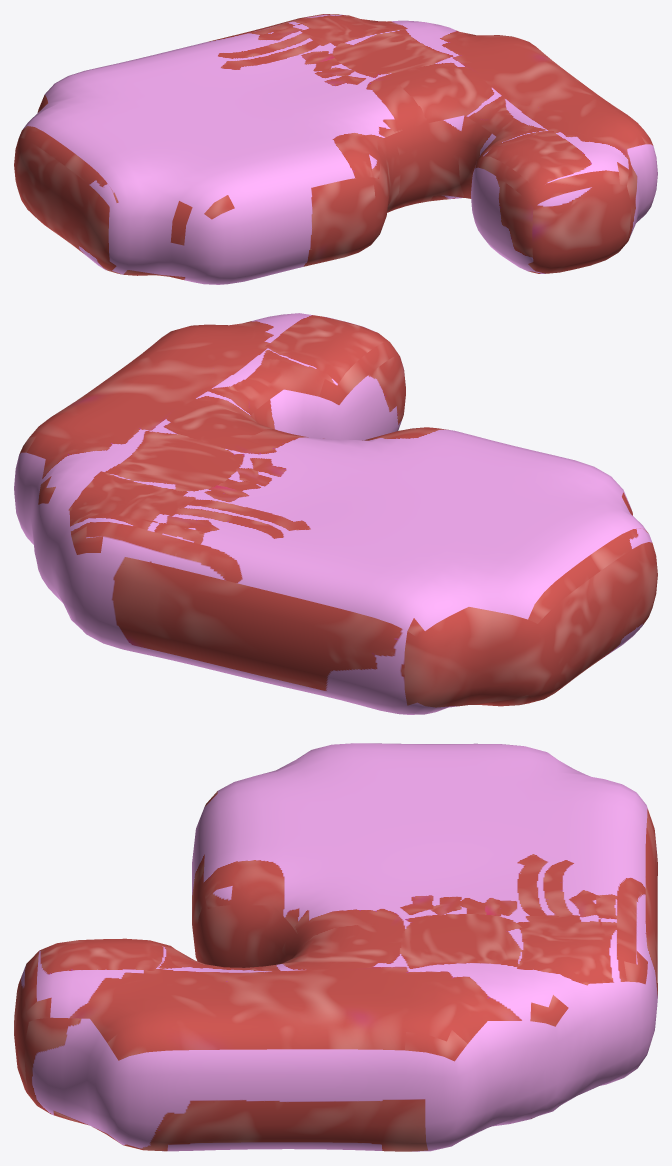
The model's file is stomach.obj.
The picture shows the model from 3 angles, top to bottom: view 1: azimuth 30°, elevation 25°; view 2: azimuth 150°, elevation 25°; view 3: azimuth 270°, elevation 25°; orthographic projection. The views are drawn at different scales.
Visible parts, largest first — view 1: Stomach_Plane; view 2: Stomach_Plane; view 3: Stomach_Plane.
Boxes of the visible parts, x1,y1,x2,y2 form: Stomach_Plane: [14, 14, 657, 284]; Stomach_Plane: [14, 313, 657, 714]; Stomach_Plane: [14, 743, 657, 1151].
Size of the model in its own units: 267 by 58.8 by 236.
Materials: 1 (1 with a texture image).
